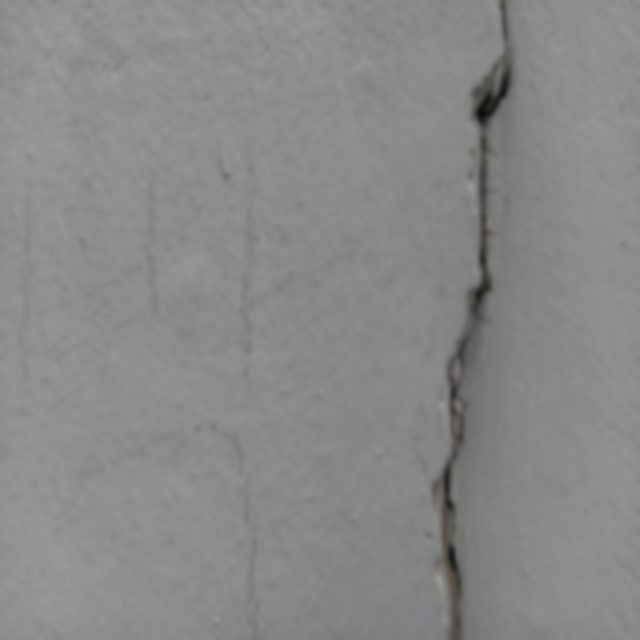SurfaceCrack: (100, 2, 305, 639), (382, 0, 559, 640)
